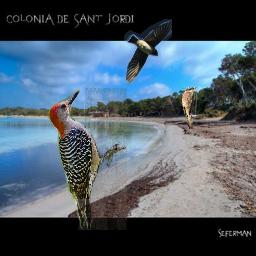Cuckoo: (182, 87, 197, 129)
Swallow: (124, 19, 172, 84)
Woodpecker: (44, 88, 127, 230)
